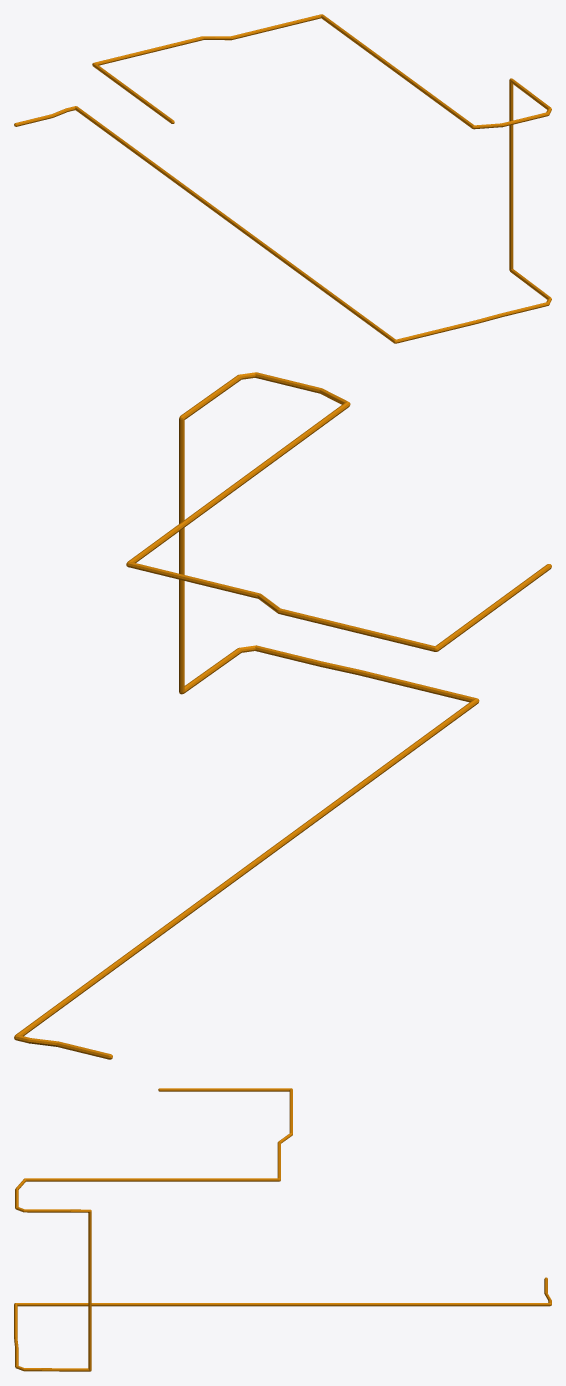
The picture shows the model from 3 angles, top to bottom: view 1: azimuth 30°, elevation 25°; view 2: azimuth 150°, elevation 25°; view 3: azimuth 270°, elevation 25°; orthographic projection. The views are drawn at different scales.
Bounding box in the file's own units: 1657 × 1020 × 3070.
